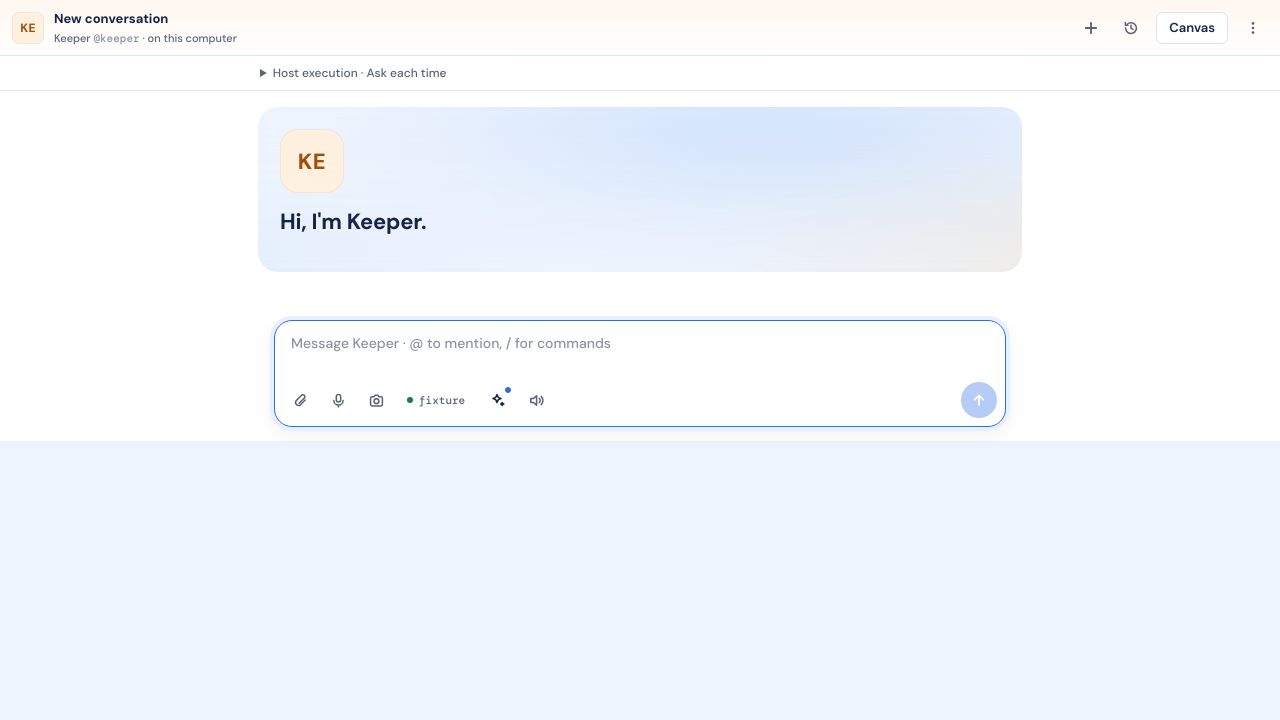
Test case: the dock in the chat page › keeps the draft while the dock stands in, and gives it back
The width and height of the screenshot is (1280, 720).
In the text box labelled "Message Keeper · @ to mention, / for commands": (640, 351) [275,321,1005,380], type "half a thought"
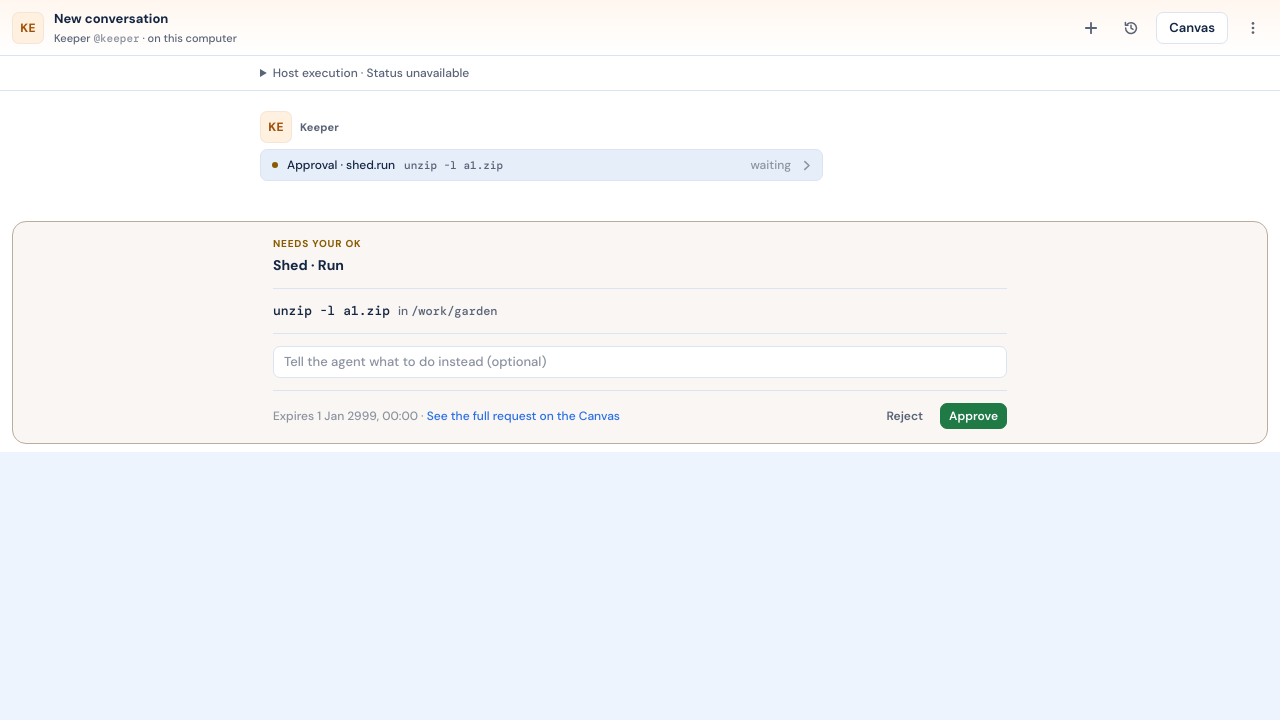
expect the text "unzip -l a1.zip" in the row of "/work/garden" is shown: met, box [273,302,390,319]
Click the button "Approve": (974, 416) [940,402,1007,428]
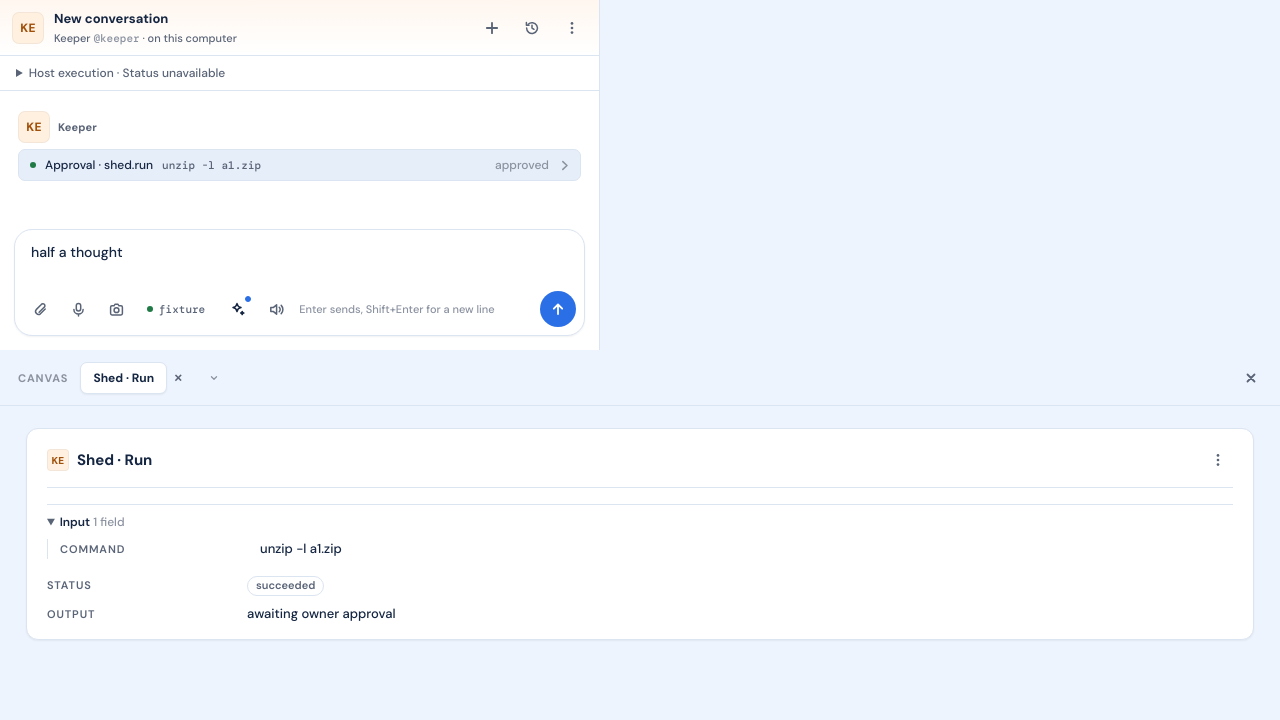
expect the element with test id "approval-dock" is gone: met
